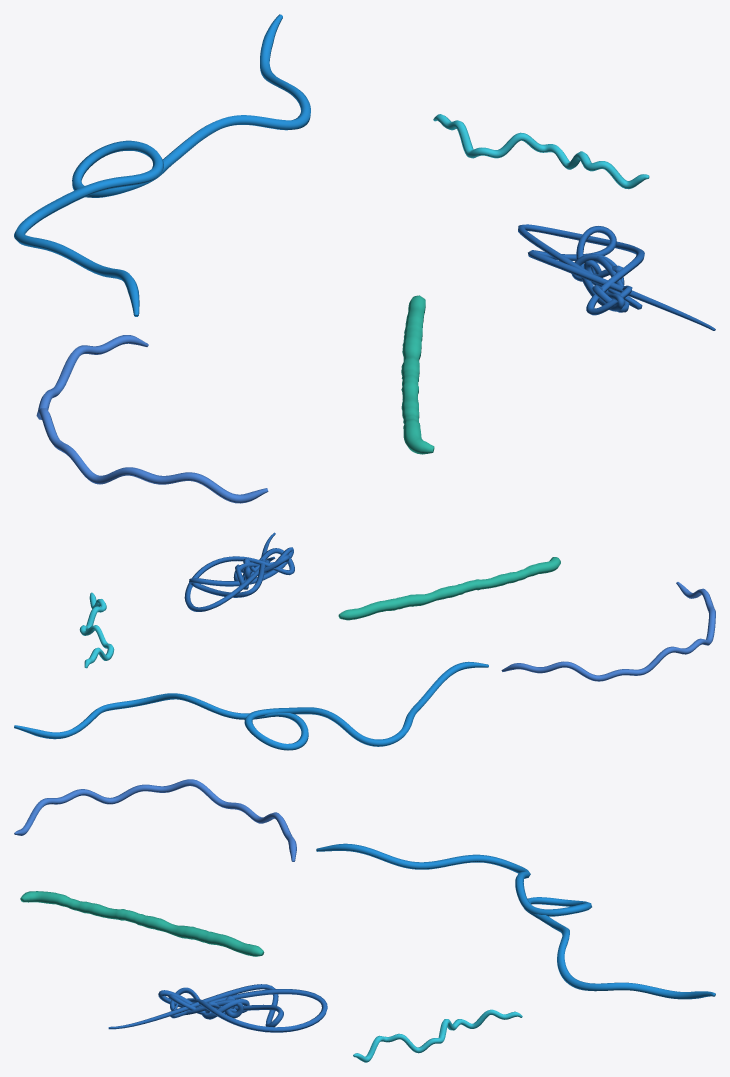
The model's file is serat.glb.
3 views of the same model, one above another, from view 1: azimuth 30°, elevation 25°; view 2: azimuth 150°, elevation 25°; view 3: azimuth 270°, elevation 25° (orthographic). The views are drawn at different scales.
Parts seen in each view (by area): view 1: serat; view 2: serat; view 3: serat.
Boxes of the visible parts, x1=… form: serat: x1=14, y1=14, x2=715, y2=503; serat: x1=14, y1=532, x2=715, y2=750; serat: x1=14, y1=779, x2=715, y2=1062.
Size of the model in its own units: 0.3802 by 0.0199 by 0.4221.
